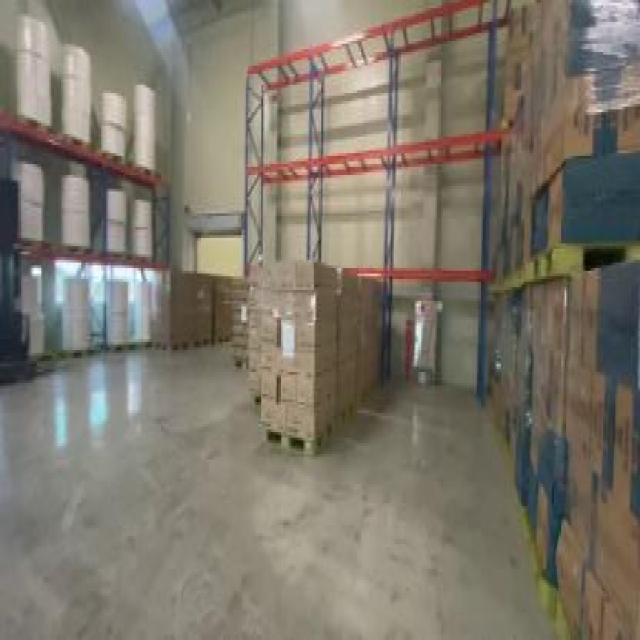box: (483, 274, 637, 638), (491, 11, 638, 287), (226, 263, 386, 454), (156, 263, 232, 350)
robot: (0, 172, 68, 386)
white_roll: (9, 11, 54, 134), (3, 156, 49, 252), (14, 268, 55, 367), (58, 170, 96, 254), (60, 274, 94, 358), (63, 41, 89, 150), (132, 80, 158, 180), (101, 186, 134, 260), (103, 276, 131, 356), (98, 87, 125, 167), (132, 279, 158, 358), (131, 186, 151, 254)
